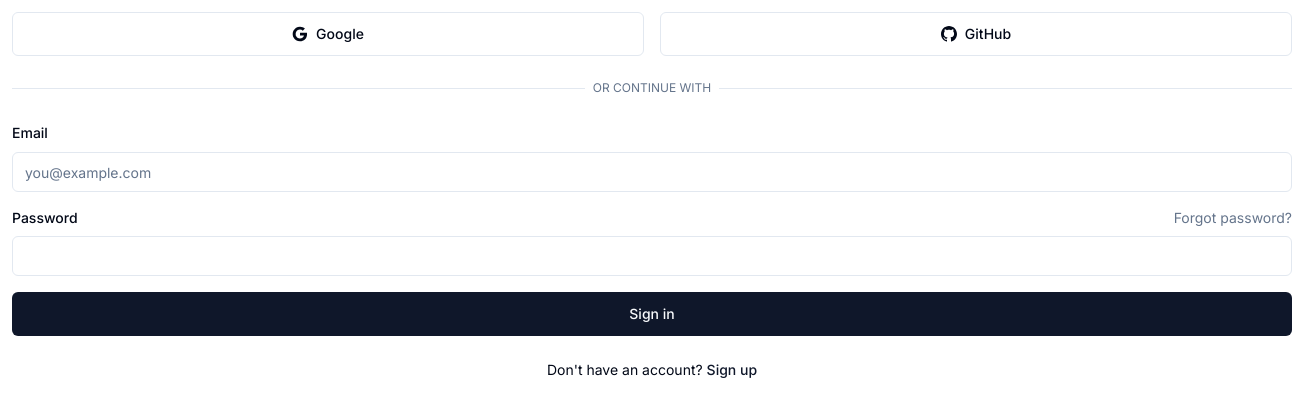
Test: LoginForm › Loading State › disables form inputs during submission
Type "test@example.com" into the field with test id "email" at (652, 172), box x1=12 y1=152 x2=1292 y2=192
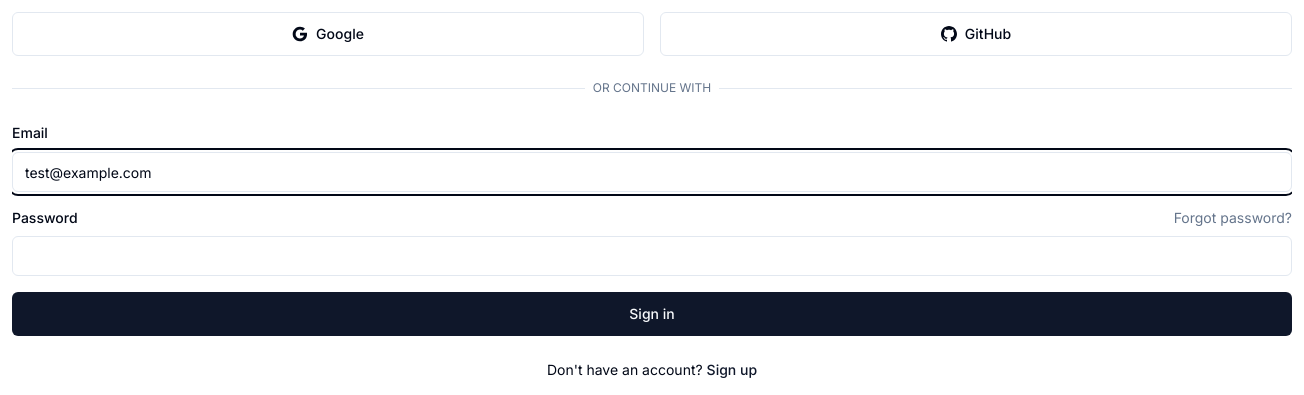
Type "password123" into the password field with test id "password" at (652, 256), box x1=12 y1=236 x2=1292 y2=276
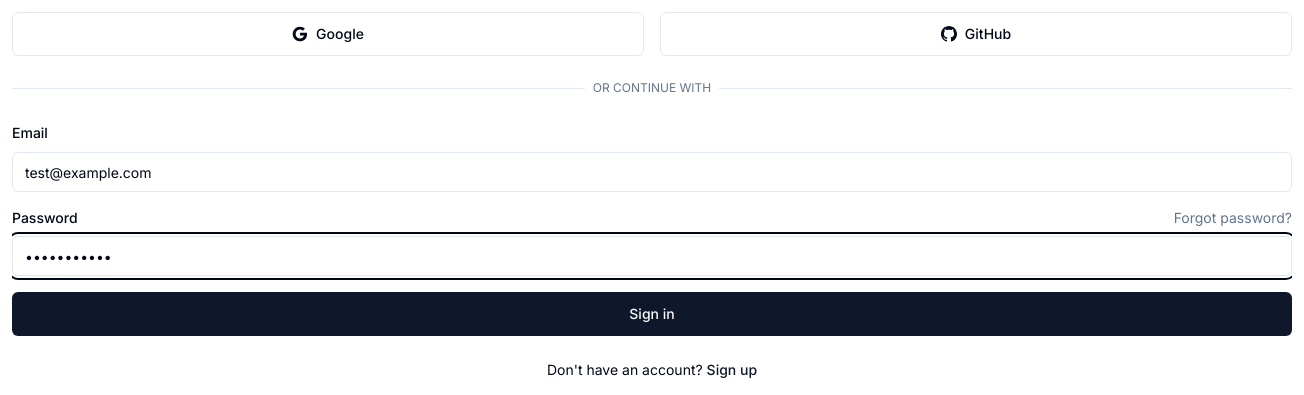
Click the button with test id "login-button" at (652, 314), box x1=12 y1=292 x2=1292 y2=336
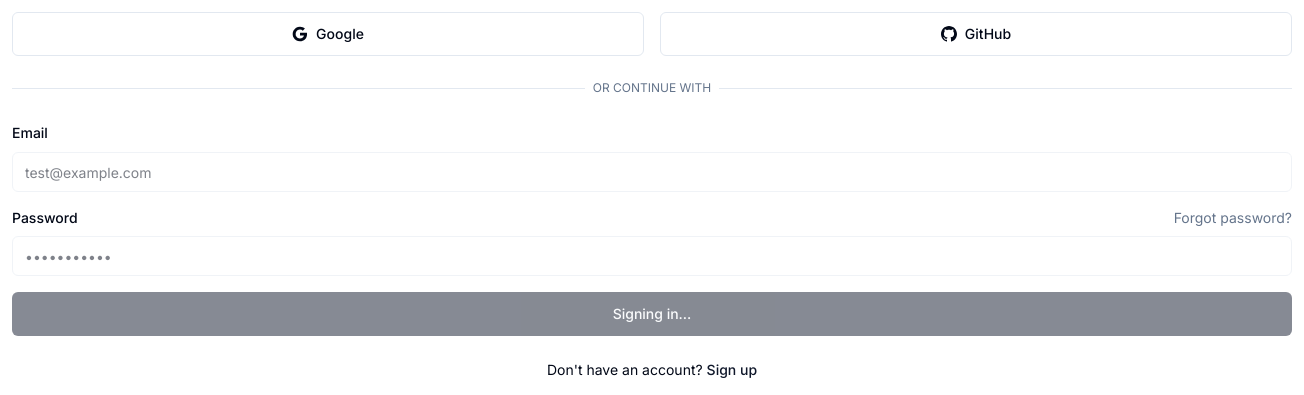
Check: the field with test id "email" is disabled, box x1=12 y1=152 x2=1292 y2=192
Check: the password field with test id "password" is disabled, box x1=12 y1=236 x2=1292 y2=276
Check: the button with test id "login-button" is disabled, box x1=12 y1=292 x2=1292 y2=336
